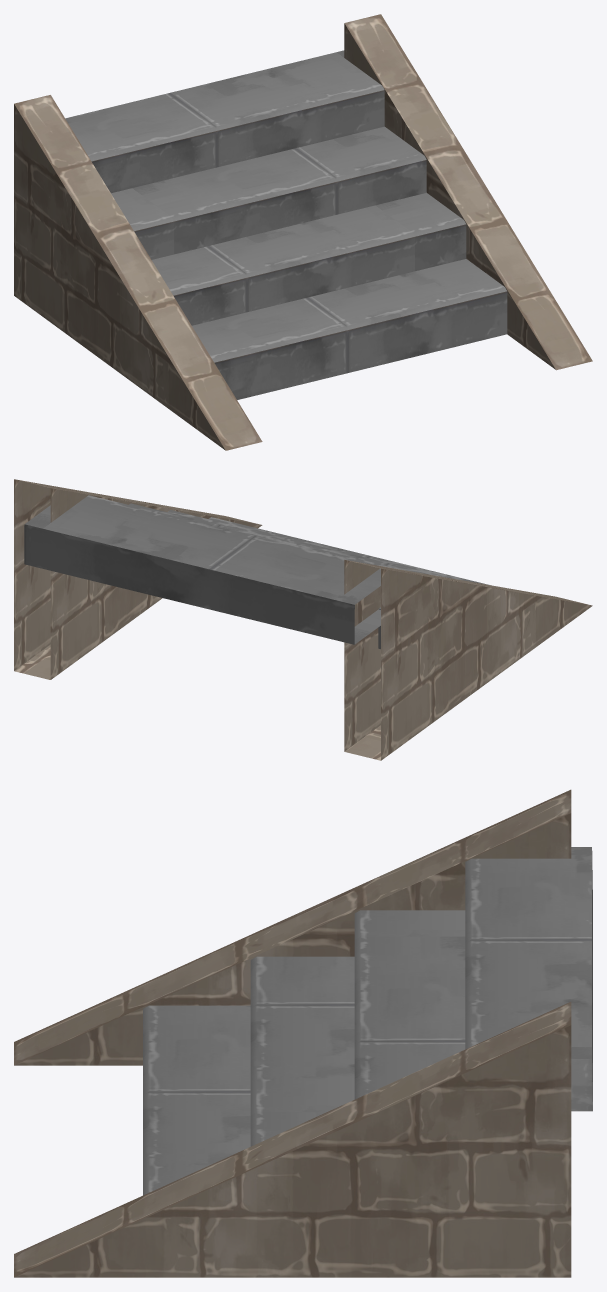
Rendered from Stairs_Exterior_NoFirstStep.gltf.
3 renders of one model, top to bottom at view 1: azimuth 30°, elevation 25°; view 2: azimuth 150°, elevation 25°; view 3: azimuth 270°, elevation 25°, orthographic. The views are drawn at different scales.
Parts seen in each view (by area): view 1: Stairs_Exterior_NoFirstStep; view 2: Stairs_Exterior_NoFirstStep; view 3: Stairs_Exterior_NoFirstStep.
Part boxes in pixels (x1,y1,x2,y2): Stairs_Exterior_NoFirstStep: [14, 14, 592, 450]; Stairs_Exterior_NoFirstStep: [14, 479, 592, 760]; Stairs_Exterior_NoFirstStep: [14, 789, 592, 1277].
Size of the model in its own units: 2 by 1 by 2.08.
Materials: 2 (2 with a texture image).
